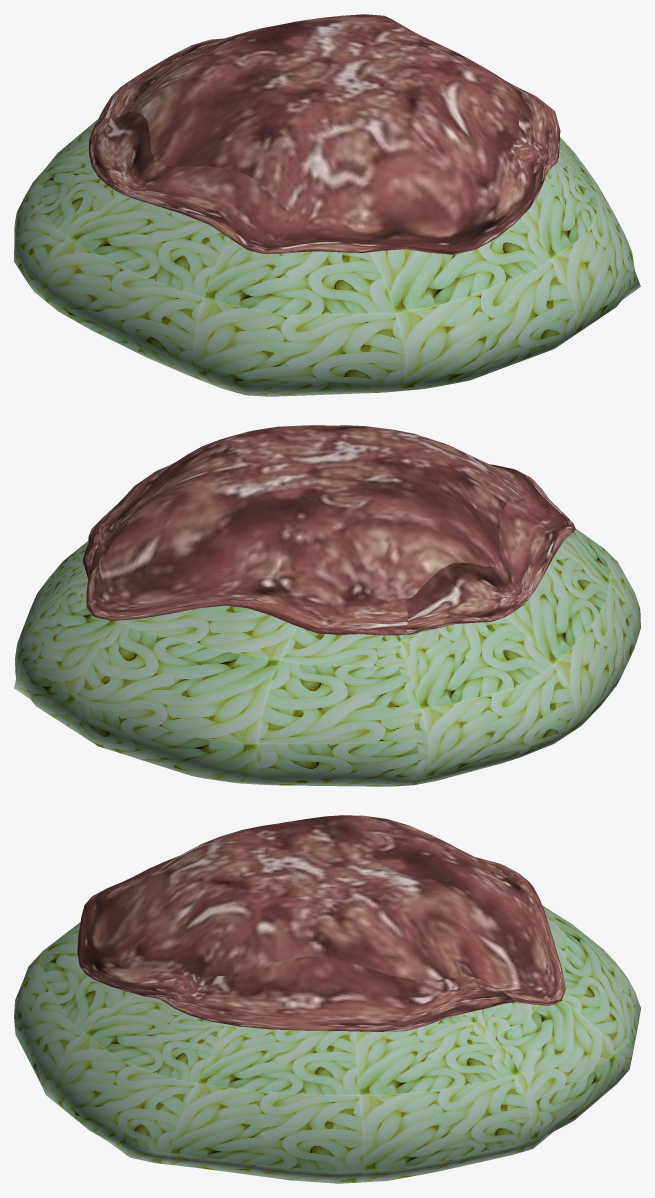
File: BadBologense.fbx
The picture shows the model from 3 angles, top to bottom: view 1: azimuth 30°, elevation 25°; view 2: azimuth 150°, elevation 25°; view 3: azimuth 270°, elevation 25°; orthographic projection. The views are drawn at different scales.
Parts seen in each view (by area): view 1: pCube23; view 2: pCube23; view 3: pCube23.
Boxes of the visible parts, box(x1,y1,x2,y2) form: pCube23: box(14, 14, 640, 396); pCube23: box(14, 425, 640, 786); pCube23: box(14, 815, 640, 1183).
Size of the model in its own units: 5.48 by 2.15 by 5.81.
